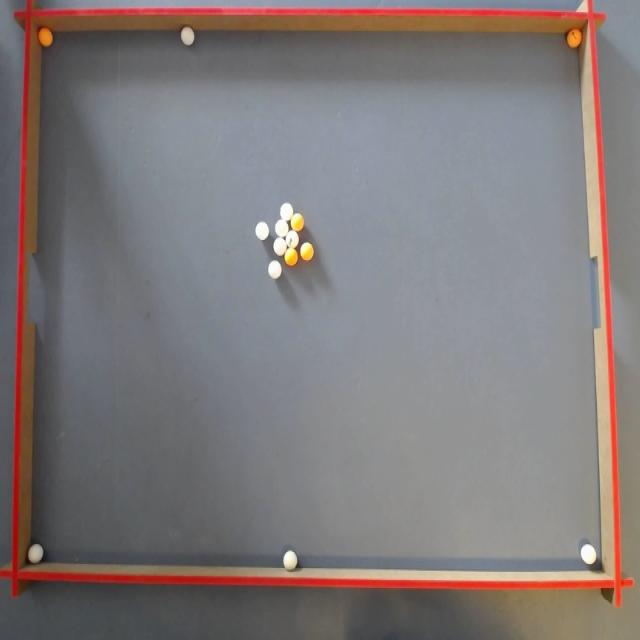orange_ball: (566, 28, 582, 48), (38, 27, 53, 47), (284, 247, 298, 266), (300, 242, 314, 260), (291, 212, 304, 230)
white_ball: (580, 543, 596, 565), (28, 544, 44, 564), (283, 550, 297, 570), (255, 222, 269, 240), (181, 27, 194, 46), (280, 202, 293, 221), (268, 260, 281, 278), (274, 237, 286, 256), (276, 219, 288, 237), (286, 230, 298, 248)
